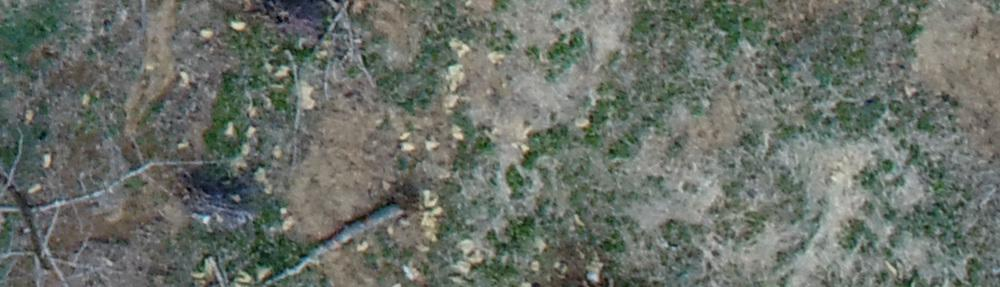apple: (10, 121, 187, 277)
